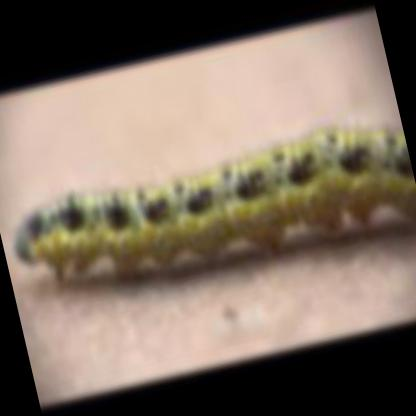pieris: (12, 127, 416, 286)
